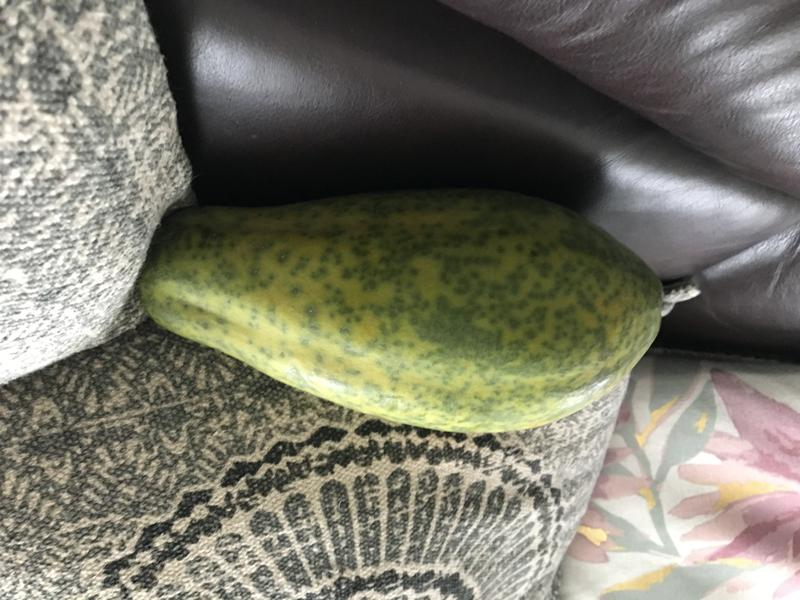papaya: (119, 183, 706, 448)
